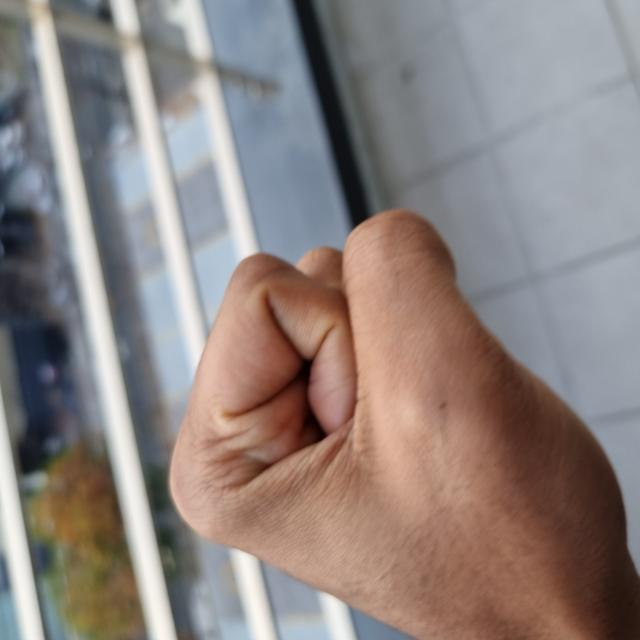Rock: (0, 171, 427, 635)
